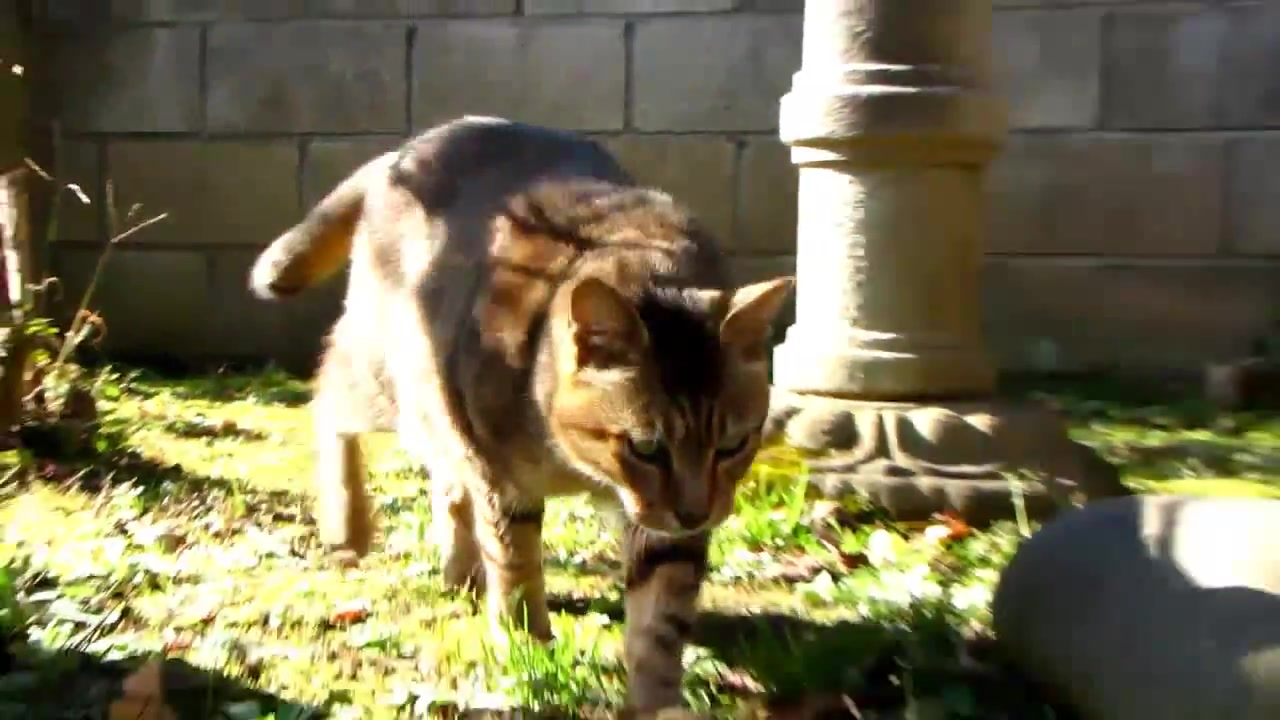cat: (238, 118, 797, 720)
